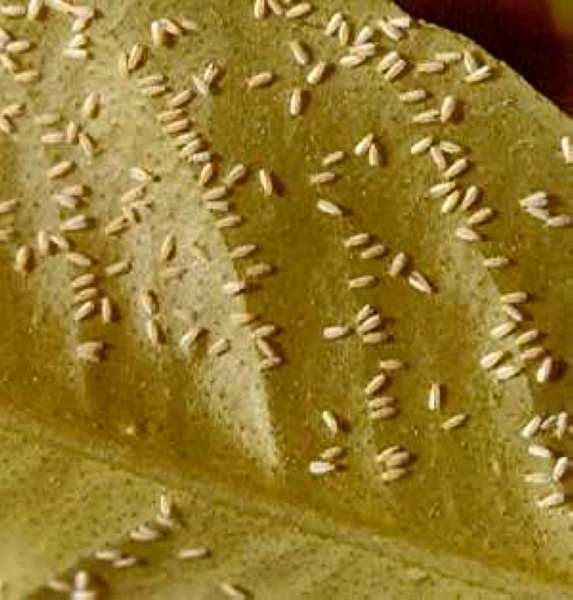Tobacco Whitefly: (316, 189, 363, 245), (300, 446, 338, 480), (288, 91, 309, 124), (264, 164, 273, 224)
